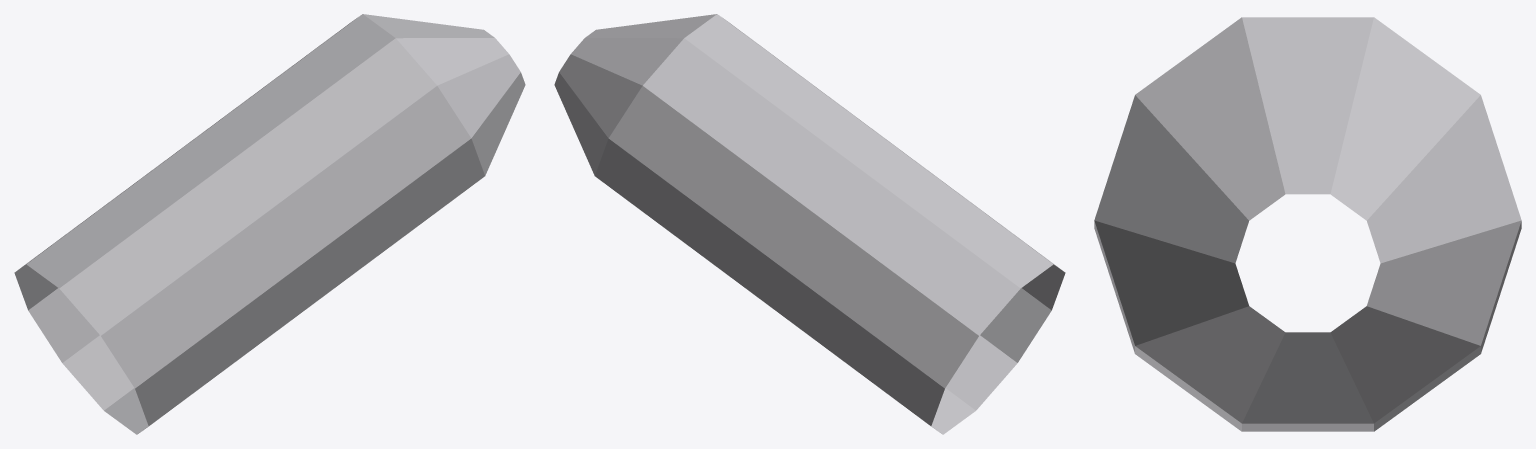
The model's file is Mothership_02_Joint.fbx.
The picture shows the model from 3 angles, left to right: view 1: azimuth 30°, elevation 25°; view 2: azimuth 150°, elevation 25°; view 3: azimuth 270°, elevation 25°; orthographic projection. The views are drawn at different scales.
Visible parts, largest first — view 1: Mothership_02_Joint; view 2: Mothership_02_Joint; view 3: Mothership_02_Joint.
Boxes of the visible parts, bbox=[...] form: Mothership_02_Joint: bbox=[14, 14, 525, 434]; Mothership_02_Joint: bbox=[554, 14, 1065, 434]; Mothership_02_Joint: bbox=[1094, 17, 1521, 431].
Size of the model in its own units: 231 by 155 by 90.16.
1 material, 1 textured.
